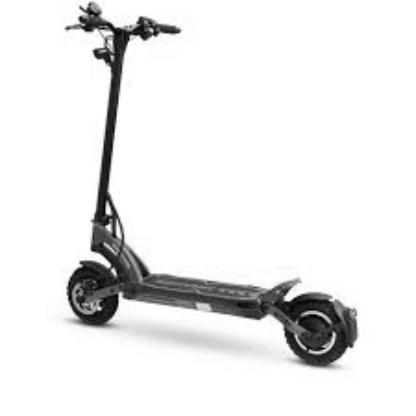bike: (65, 208, 358, 368)
